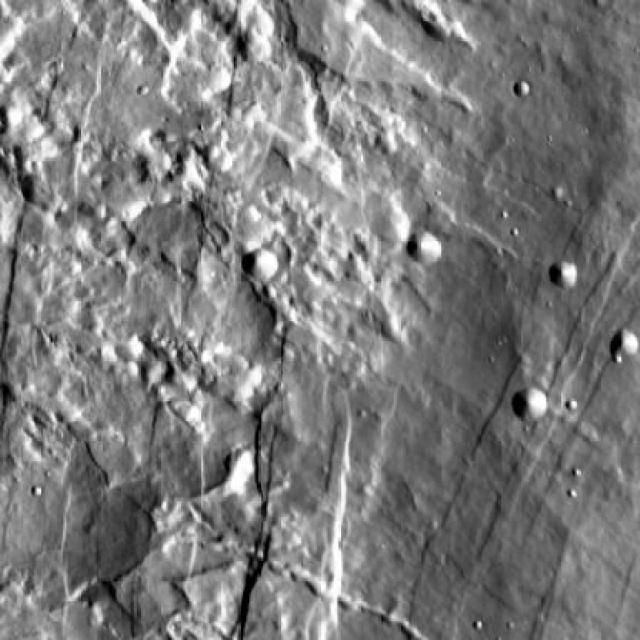crater: (242, 244, 278, 279), (408, 231, 441, 266), (514, 388, 548, 419), (549, 262, 577, 288), (615, 332, 640, 360), (516, 84, 532, 101)
